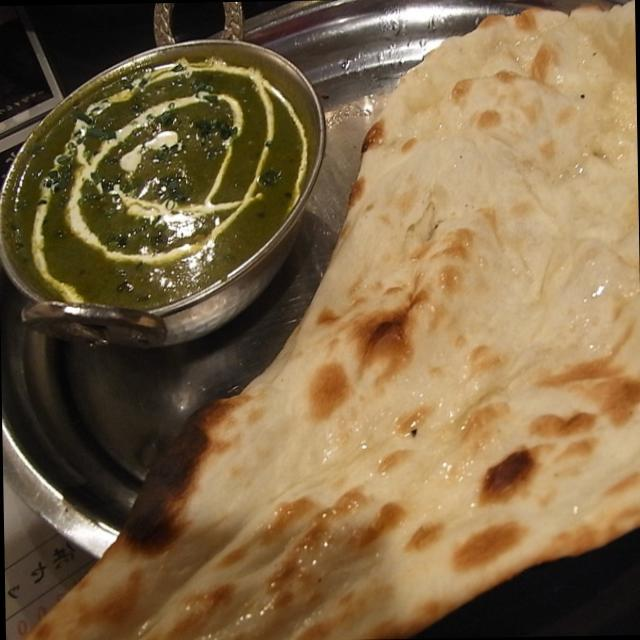Beef Curry: (22, 90, 270, 259)
